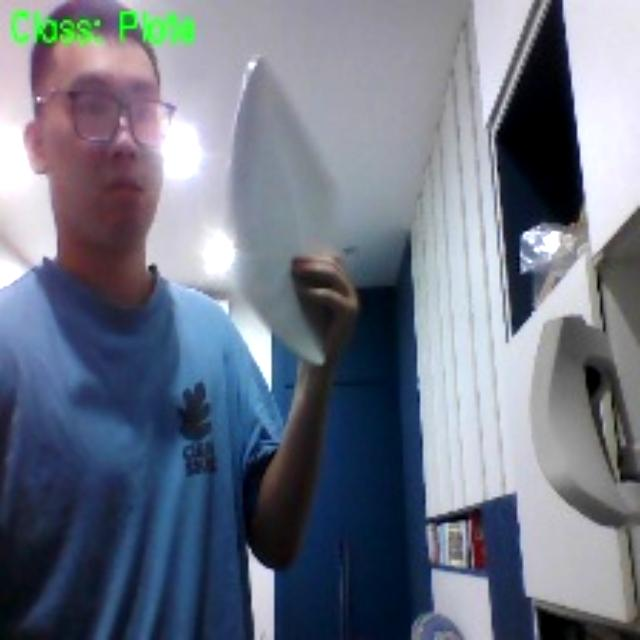Plate: (231, 57, 337, 363)
